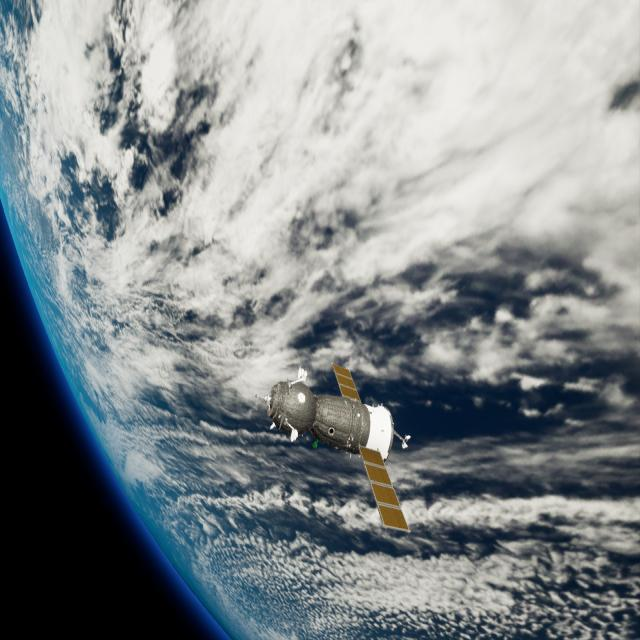Satellites revolving around earth: (259, 361, 413, 536)
